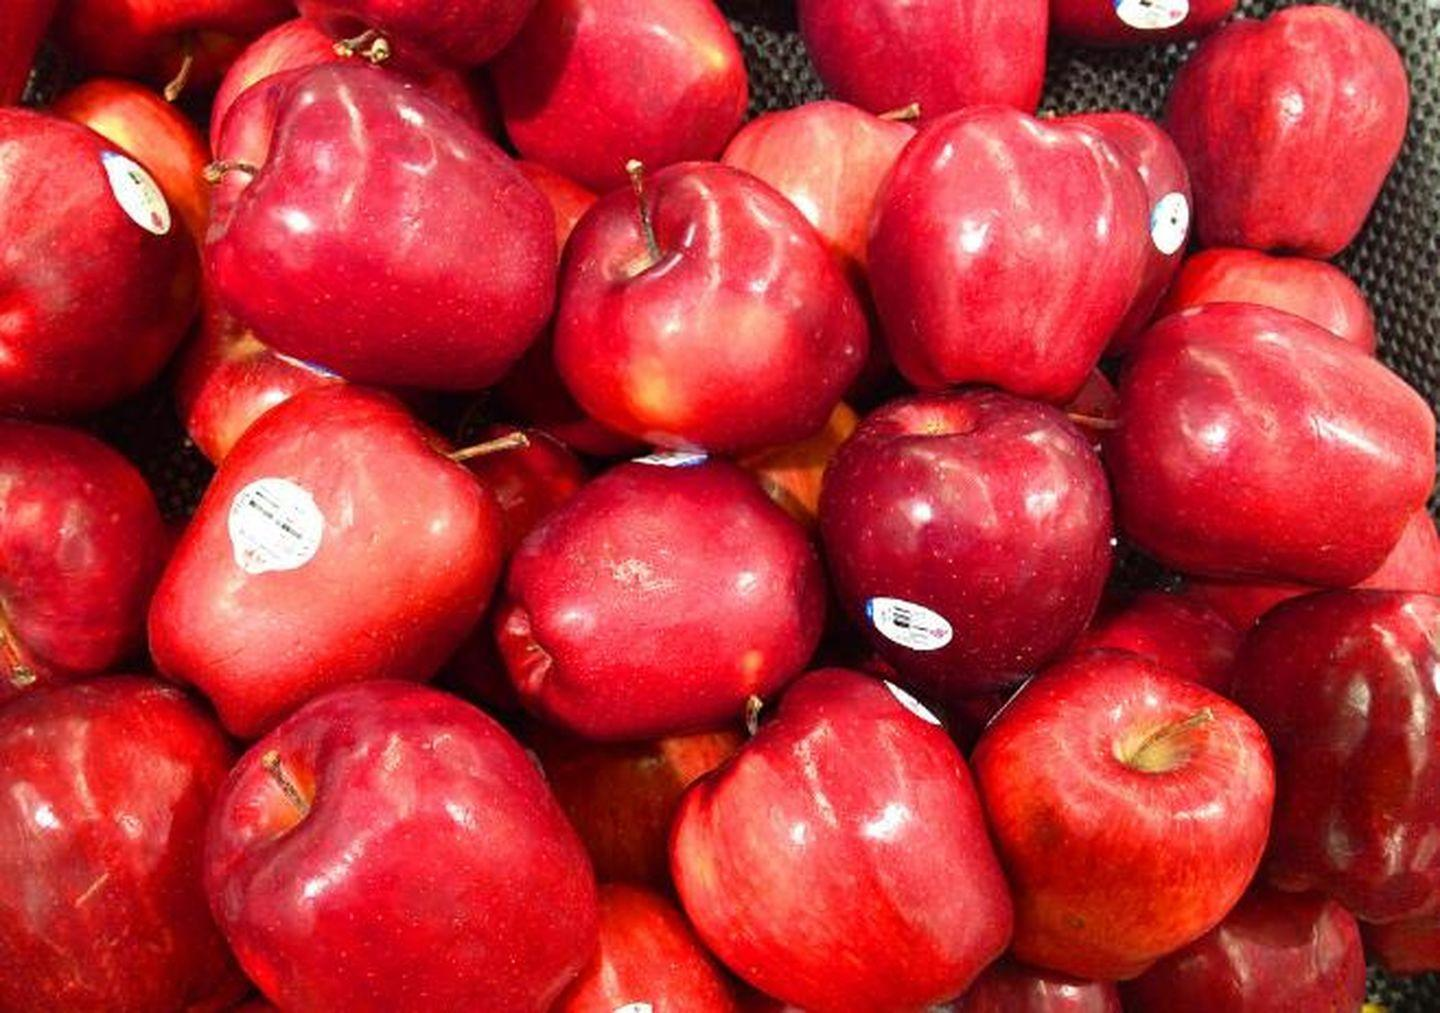apple: (146, 385, 517, 745), (214, 679, 599, 1010), (196, 46, 557, 396), (664, 668, 1002, 1006), (538, 164, 871, 473), (865, 99, 1196, 403), (1097, 300, 1435, 599), (500, 448, 823, 756), (970, 656, 1280, 974), (805, 407, 1111, 726), (1, 680, 250, 1002), (1227, 585, 1440, 925), (1158, 5, 1415, 260), (1, 105, 202, 426), (485, 1, 753, 186), (1, 422, 168, 688), (722, 94, 908, 262), (798, 1, 1053, 123), (1117, 885, 1365, 1009), (561, 881, 733, 1013)
